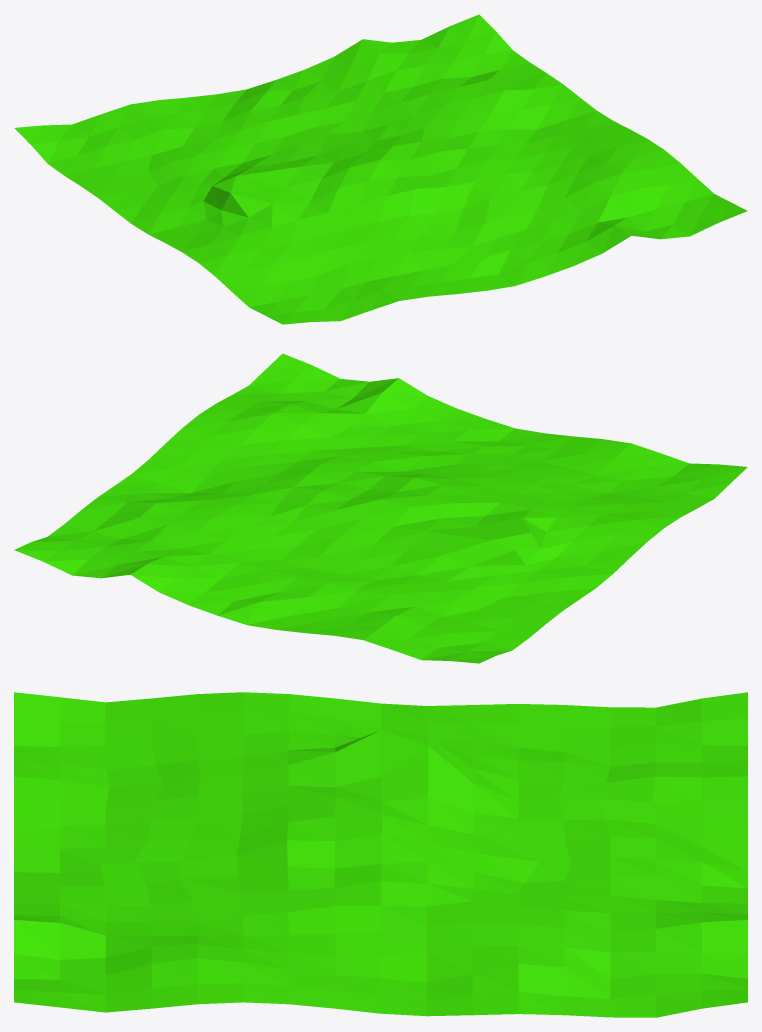
File: groundFour.fbx
3 renders of one model, top to bottom at view 1: azimuth 30°, elevation 25°; view 2: azimuth 150°, elevation 25°; view 3: azimuth 270°, elevation 25°, orthographic. The views are drawn at different scales.
Parts seen in each view (by area): view 1: Plane.001; view 2: Plane.001; view 3: Plane.001.
Part boxes in pixels (bbox=[...]): Plane.001: bbox=[14, 14, 747, 324]; Plane.001: bbox=[14, 353, 747, 663]; Plane.001: bbox=[14, 692, 747, 1017].
Size of the model in its own units: 2000 by 130 by 2000.
